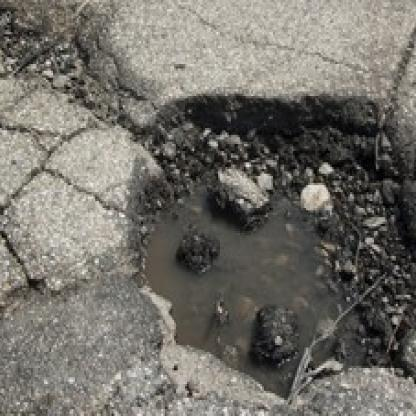pothole: (117, 92, 416, 405), (0, 0, 95, 105)
